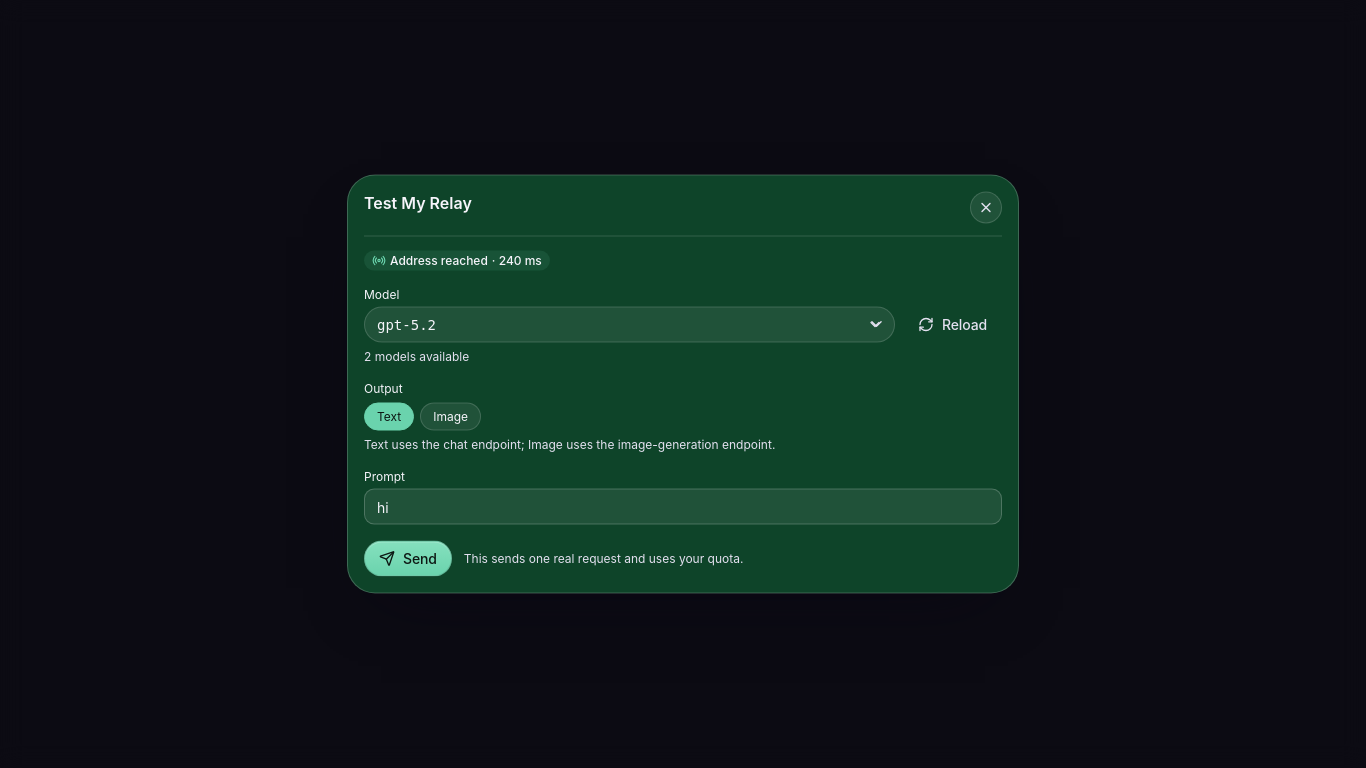
Test: ProviderTestModal › sends the selected model and renders the reply
The image size is (1366, 768).
Expected: the dropdown labelled "Model" is shown, [364,306,895,342]
Click the button named "Send" at point(408, 558), box [364,540,452,576]
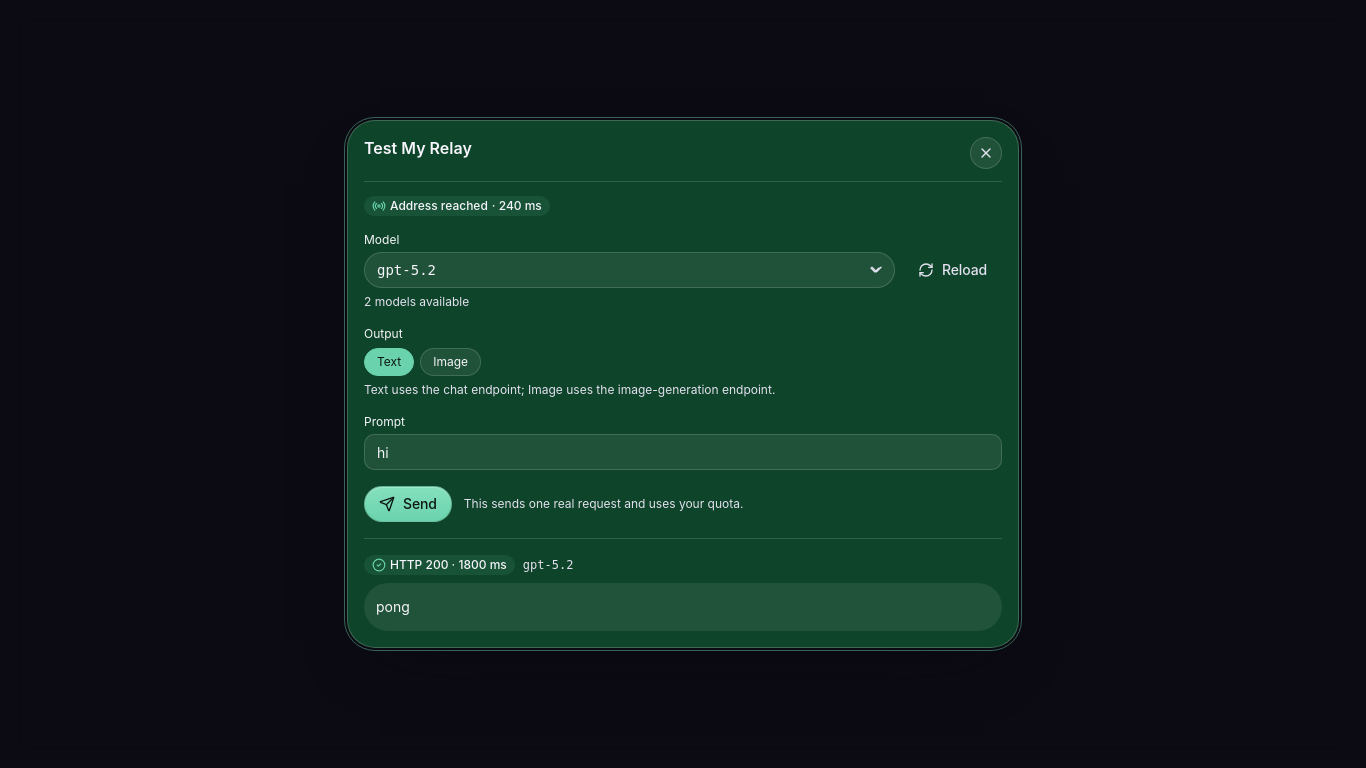
Expected: the text "pong" is shown, [364,583,1002,631]
